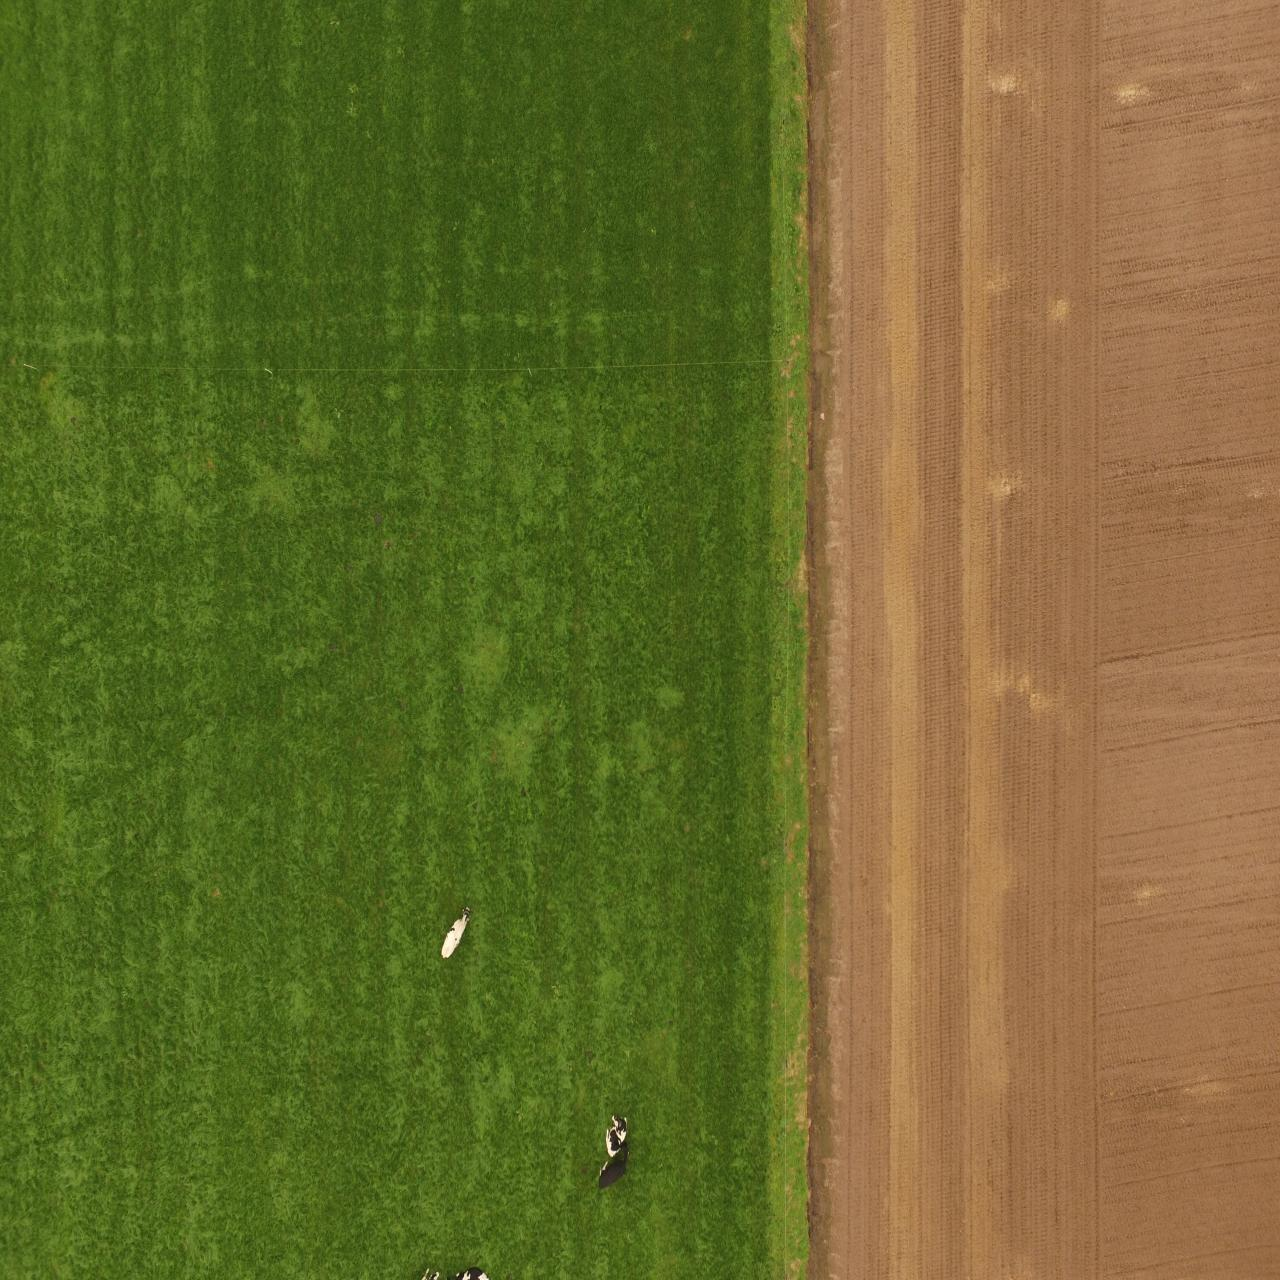cow: (435, 905, 469, 960), (597, 1149, 633, 1191), (604, 1112, 632, 1157)
